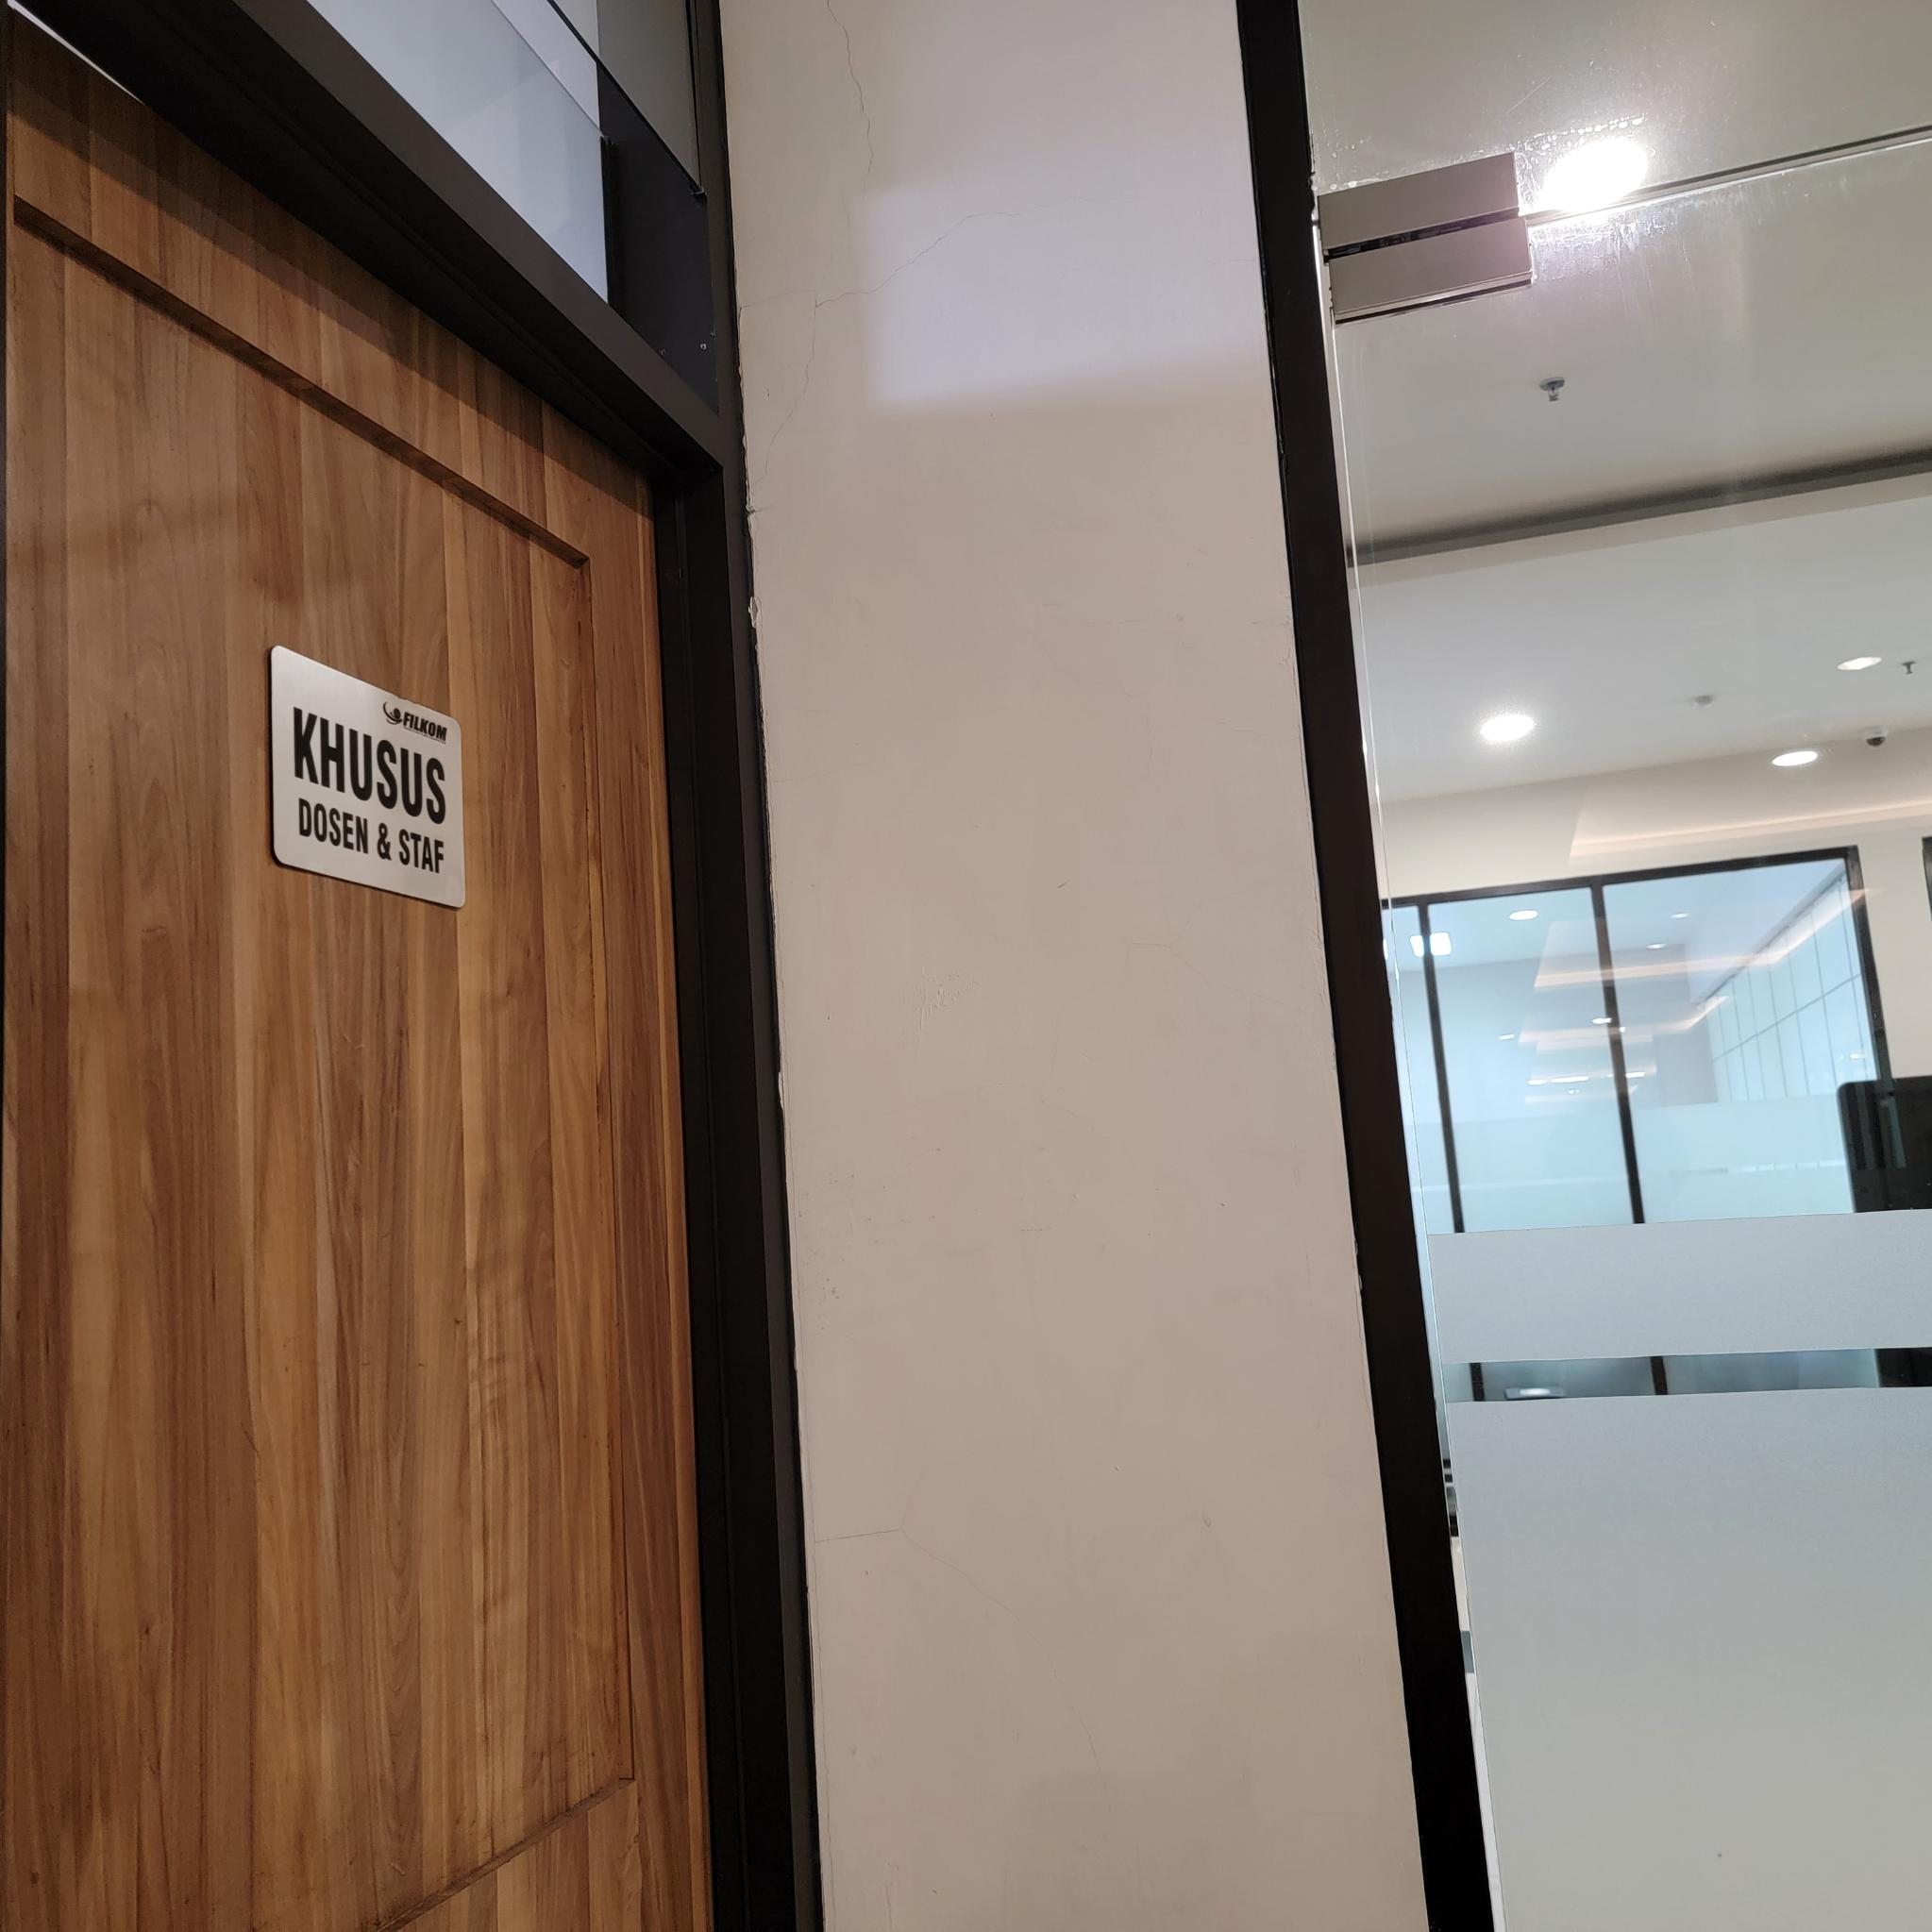plate: (271, 642, 465, 911)
